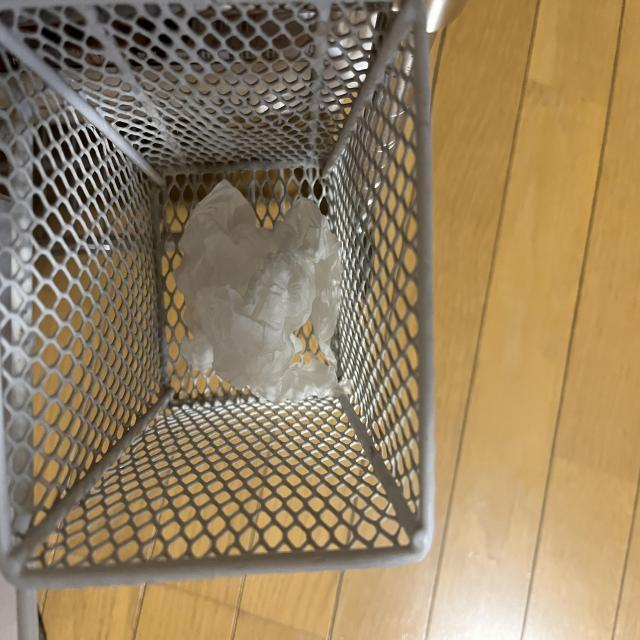Paper: (137, 168, 364, 414)
